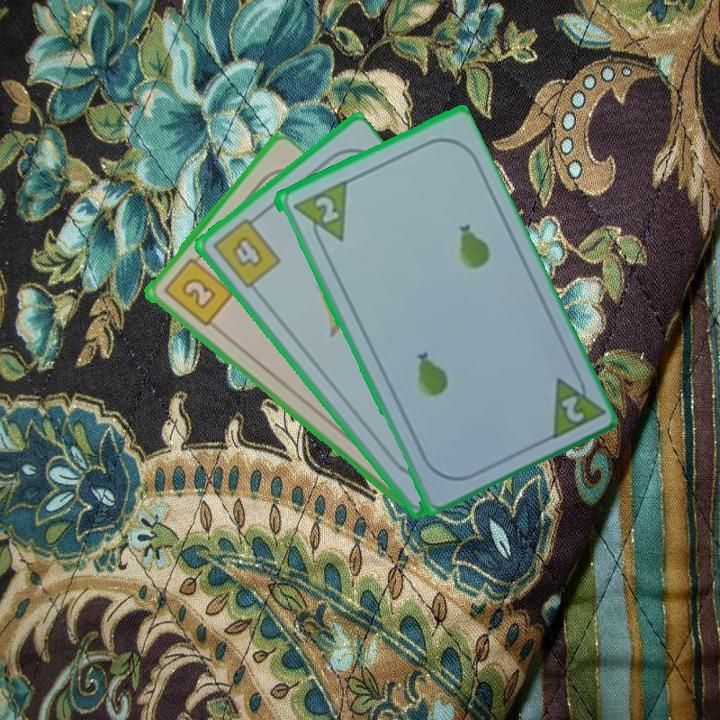2b: (159, 249, 235, 330)
2p: (544, 364, 605, 443), (310, 192, 341, 226)
4b: (209, 211, 284, 292)
